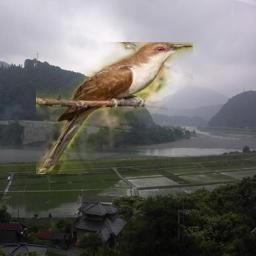Cuckoo: (36, 42, 193, 174)
